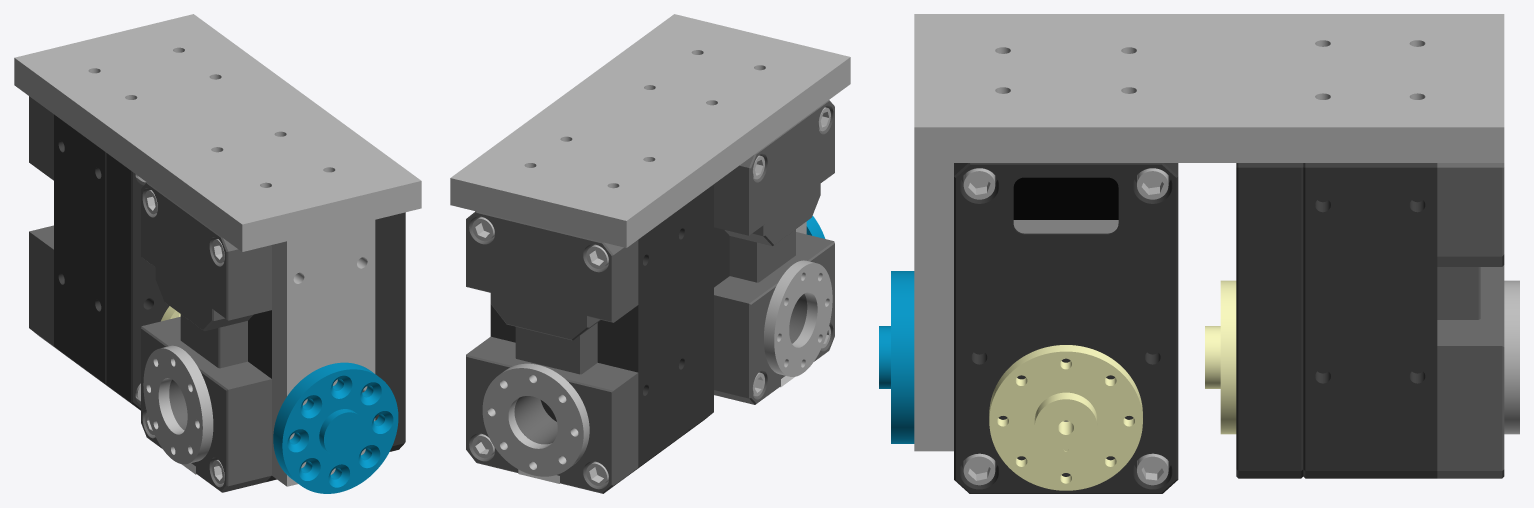
File: AnkleL.obj
3 views of the same model, side by side, from view 1: azimuth 30°, elevation 25°; view 2: azimuth 150°, elevation 25°; view 3: azimuth 270°, elevation 25° (orthographic). The views are drawn at different scales.
Visible parts, largest first — view 1: Solid1, Solid1:6, Solid1:33, Solid1:34, Solid1:32, Solid1:20, Solid1:4, Solid1:15, Solid1:22, Solid1:16; view 2: Solid1, Solid1:22, Solid1:6, Solid1:32, Solid1:31, Solid1:20, Solid1:15, Solid1:33, Solid1:16; view 3: Solid1, Solid1:4, Solid1:32, Solid1:22, Solid1:20, Solid1:1, Solid1:33, Solid1:34, Solid1:2, Solid1:17, Solid1:31, Solid1:3 (+4 smaller).
Boxes of the visible parts, x1,y1,x2,y2 form: Solid1: (14,14,421,251); Solid1:6: (141,182,271,492); Solid1:33: (272,181,375,486); Solid1:34: (273,362,398,493); Solid1:32: (54,114,114,391); Solid1:20: (106,153,169,410); Solid1:4: (375,212,405,451); Solid1:15: (143,345,213,464); Solid1:22: (29,96,61,352); Solid1:16: (248,310,276,481); Solid1: (450,14,850,247); Solid1:22: (466,211,638,493); Solid1:6: (714,100,834,404); Solid1:32: (490,203,688,473); Solid1:31: (482,363,589,476); Solid1:20: (680,184,713,437); Solid1:15: (764,260,832,376); Solid1:33: (705,25,806,234); Solid1:16: (714,227,729,287); Solid1: (914,14,1504,162); Solid1:4: (954,163,1178,493); Solid1:32: (1303,163,1437,478); Solid1:22: (1437,163,1504,478); Solid1:20: (1236,163,1303,478); Solid1:1: (989,345,1142,490); Solid1:33: (914,42,953,451); Solid1:34: (879,271,914,443); Solid1:2: (1013,177,1118,219); Solid1:17: (1205,280,1236,434); Solid1:31: (1504,280,1519,434); Solid1:3: (1013,220,1118,233).
Bounding box in the file's own units: 0.04 × 0.0515 × 0.0814.
